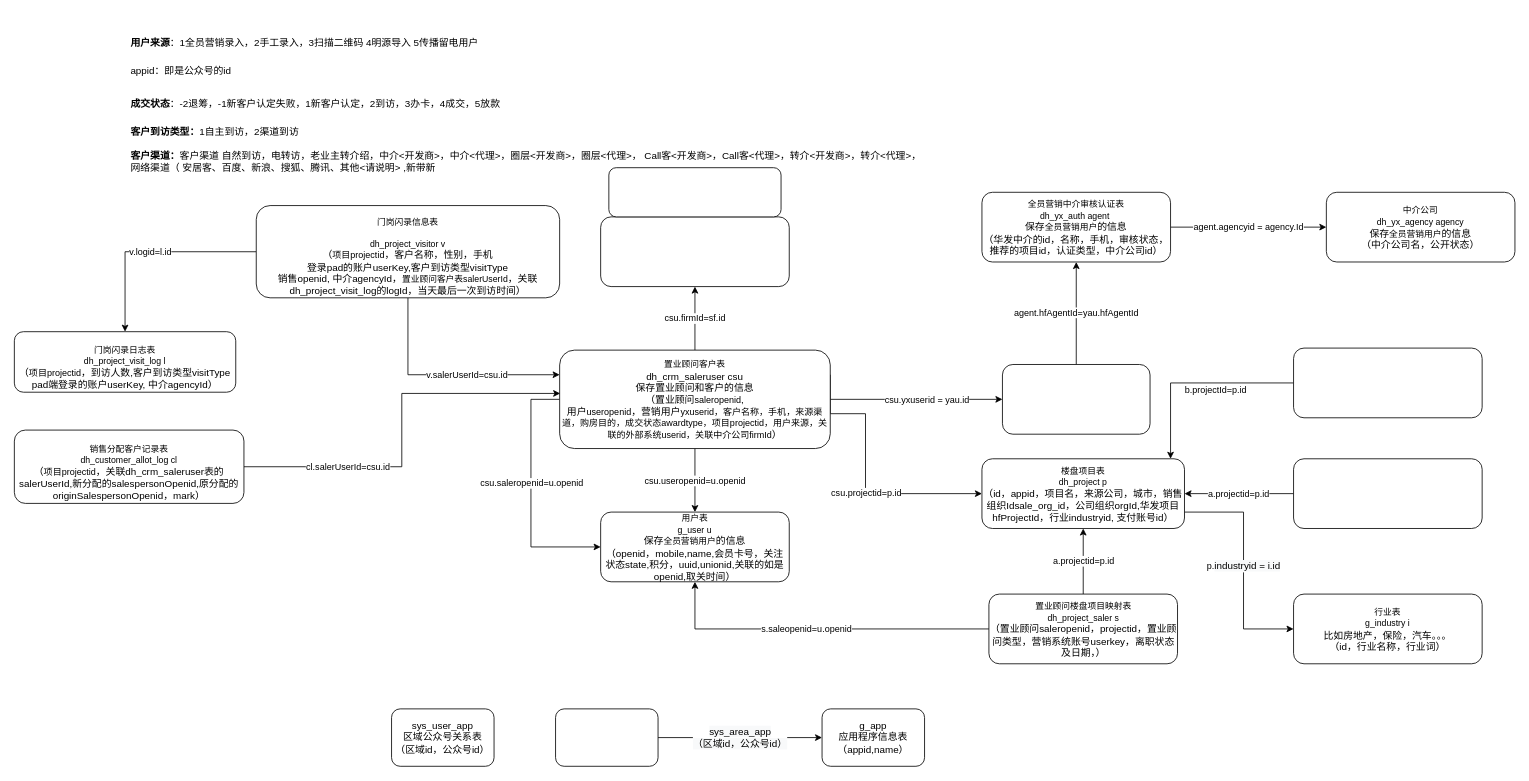
The diagram is 1529 pixels wide and 781 high, and some of its shapes have lost their labels. The shapes that lost their labels are listed below. From the top down, each one's centre as x and y in pixels, then its label:
(694,192): 置业顾问与代理公司绑定表dh_crm_salerfirmbind sfb （代理公司firmid，销售saleropenid）
(694,251): 置业顾问代理公司 dh_crm_salerfirm sf （代理公司名，appid）
(1076,399): 全员营销用户表 dh_yx_agentuser yau （中介的id，客户的id， 名称，手机）
(1387,382): Pad项目绑定表 pad_project_bind b （appid，pad客户端code，projectId，绑定状态state）
(1387,493): 销售项目权限表 dh_project_saler_auth a （saleropenid，projectid）
(606,737): sys_area 区域信息表 （名称，状态）
